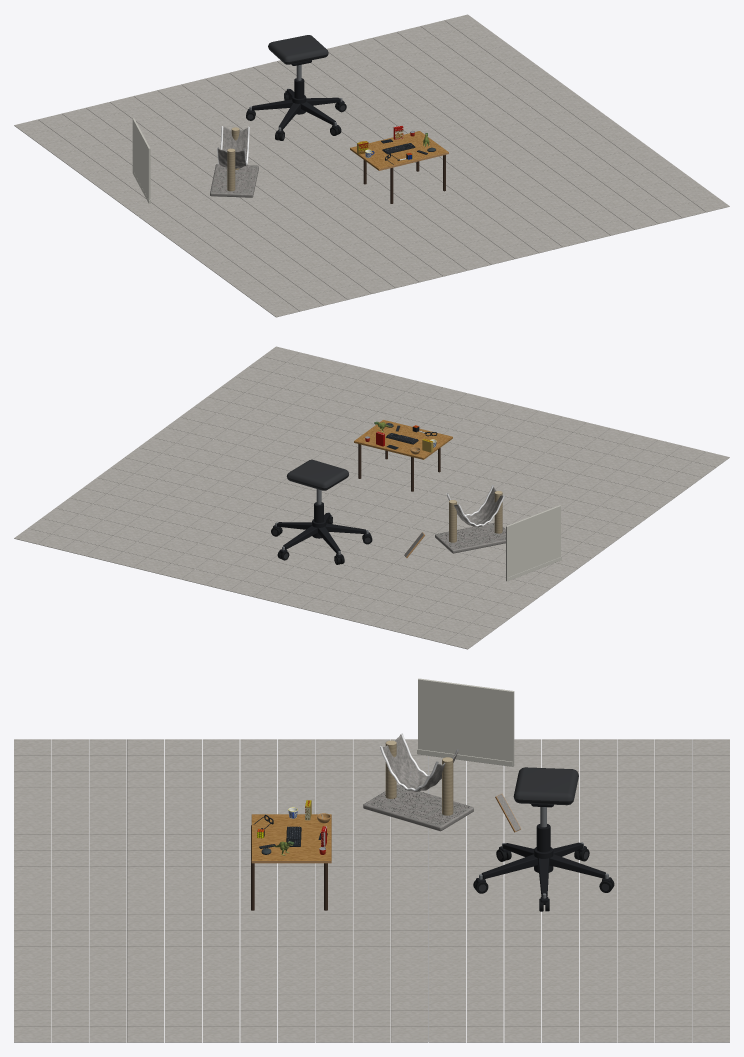
File: codex.glb
3 renders of one model, top to bottom at view 1: azimuth 30°, elevation 25°; view 2: azimuth 150°, elevation 25°; view 3: azimuth 270°, elevation 25°, orthographic. The views are drawn at different scales.
Visible parts, largest first — view 1: solid oak tabletop, Office chair partly offscreen upholstered seat, Cat tree thick fuzzy rectangular floor base, far left room wall, Gray fuzzy suspended cat hammock; view 2: far left room wall, solid oak tabletop, Cat tree thick fuzzy rectangular floor base, Office chair partly offscreen upholstered seat, Gray fuzzy suspended cat hammock; view 3: far left room wall, solid oak tabletop, Cat tree thick fuzzy rectangular floor base, Office chair partly offscreen upholstered seat, Gray fuzzy suspended cat hammock, Cat tree tan sisal scratching post.001, individual square stone tile.002, individual square stone tile.016, individual square stone tile.021, individual square stone tile.035, individual square stone tile.173, individual square stone tile.180 (+292 smaller).
Part boxes in pixels (<box>): solid oak tabletop: <box>350,131,448,170</box>; Office chair partly offscreen upholstered seat: <box>268,35,328,64</box>; Cat tree thick fuzzy rectangular floor base: <box>210,164,258,197</box>; far left room wall: <box>132,118,150,199</box>; Gray fuzzy suspended cat hammock: <box>218,126,247,168</box>; far left room wall: <box>506,505,560,581</box>; solid oak tabletop: <box>354,420,452,459</box>; Cat tree thick fuzzy rectangular floor base: <box>435,522,505,553</box>; Office chair partly offscreen upholstered seat: <box>286,459,348,490</box>; Gray fuzzy suspended cat hammock: <box>447,486,502,526</box>; far left room wall: <box>418,678,514,766</box>; solid oak tabletop: <box>251,814,331,860</box>; Cat tree thick fuzzy rectangular floor base: <box>363,784,473,831</box>; Office chair partly offscreen upholstered seat: <box>513,767,578,805</box>; Gray fuzzy suspended cat hammock: <box>382,734,458,791</box>; Cat tree tan sisal scratching post.001: <box>442,757,453,815</box>; individual square stone tile.002: <box>89,739,126,755</box>; individual square stone tile.016: <box>617,739,654,755</box>; individual square stone tile.021: <box>89,755,126,771</box>; individual square stone tile.035: <box>617,755,654,771</box>; individual square stone tile.173: <box>89,882,126,898</box>; individual square stone tile.180: <box>353,882,390,898</box>.
Size of what is drawn, in the model's own units: 26.01 by 4.18 by 26.01.
Materials: 467 (411 with a texture image).
